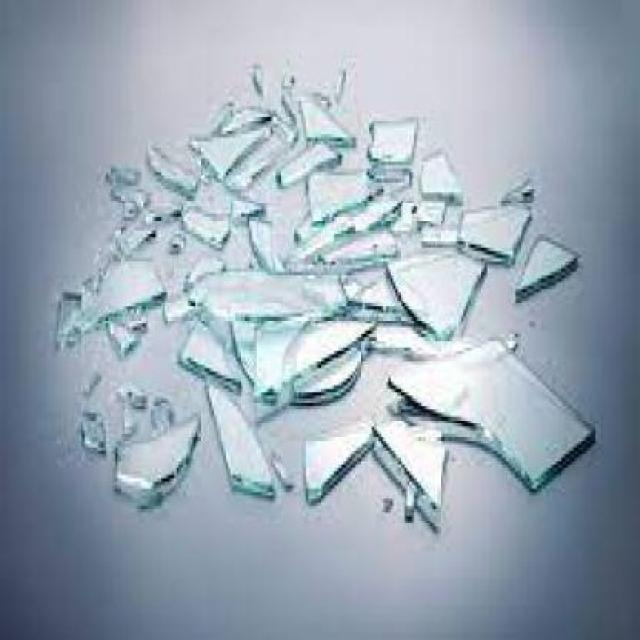kaca: (386, 331, 592, 492), (182, 258, 348, 354), (226, 303, 372, 395), (249, 309, 374, 389), (197, 364, 271, 496), (389, 237, 483, 331), (368, 412, 449, 520), (111, 409, 197, 503), (284, 192, 398, 258), (368, 314, 518, 358), (94, 252, 169, 325), (303, 423, 369, 499), (334, 251, 409, 314), (454, 200, 529, 262), (178, 306, 231, 389), (511, 231, 577, 292), (302, 168, 382, 217), (188, 128, 270, 175), (297, 80, 351, 148), (222, 138, 283, 194), (318, 228, 398, 269), (189, 172, 260, 214), (146, 134, 192, 197), (276, 135, 338, 180), (365, 110, 417, 158), (360, 155, 412, 197), (417, 148, 458, 200), (209, 97, 271, 131), (134, 189, 183, 231), (185, 200, 229, 245), (391, 192, 442, 228), (157, 268, 191, 320), (52, 281, 83, 334), (250, 214, 278, 269), (76, 403, 106, 451), (270, 111, 302, 155), (111, 214, 152, 248), (80, 242, 117, 278), (110, 178, 142, 217), (275, 72, 297, 128), (101, 320, 137, 354), (501, 172, 534, 203), (271, 448, 292, 495), (118, 379, 150, 406), (102, 158, 138, 178), (403, 476, 417, 526), (80, 362, 102, 389), (249, 58, 266, 92), (124, 306, 150, 328), (119, 403, 132, 445), (329, 61, 343, 97), (148, 392, 164, 423), (169, 238, 182, 252)
